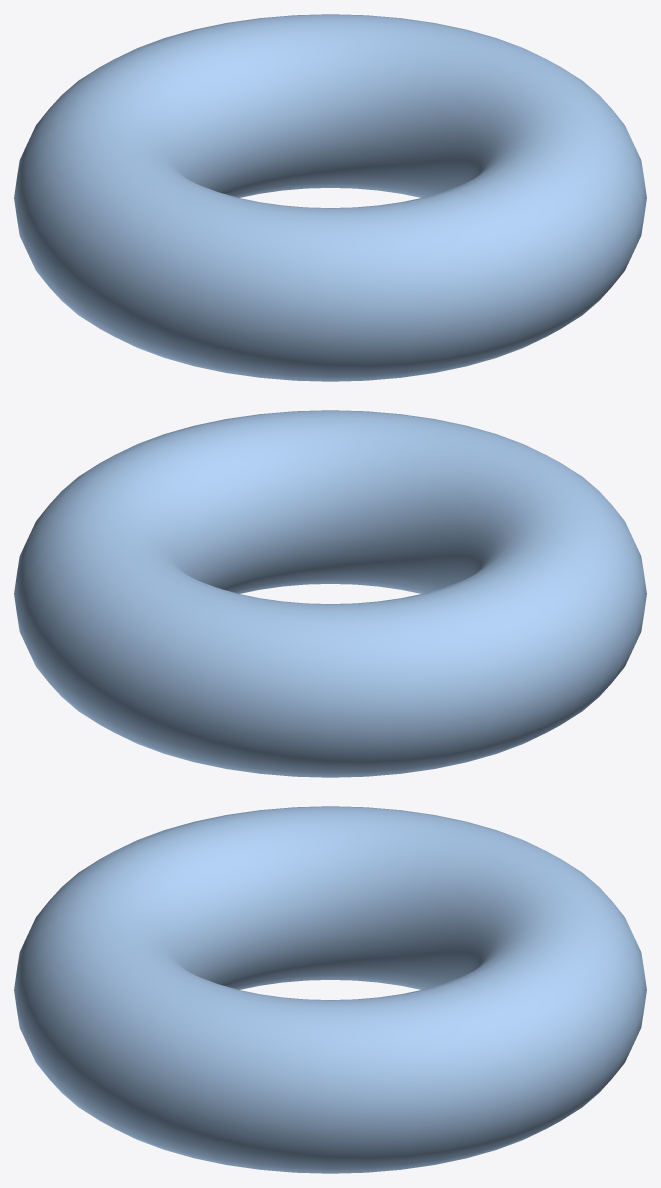
The model's file is home.glb.
3 views of the same model, one above another, from view 1: azimuth 30°, elevation 25°; view 2: azimuth 150°, elevation 25°; view 3: azimuth 270°, elevation 25° (orthographic).
Parts seen in each view (by area): view 1: home-placeholder; view 2: home-placeholder; view 3: home-placeholder.
Part boxes in pixels (box(x1,y1,x2,y2)): home-placeholder: box(14, 14, 646, 381); home-placeholder: box(14, 410, 646, 777); home-placeholder: box(14, 806, 646, 1173).
Bounding box in the file's own units: 2.76 × 0.76 × 2.76.
